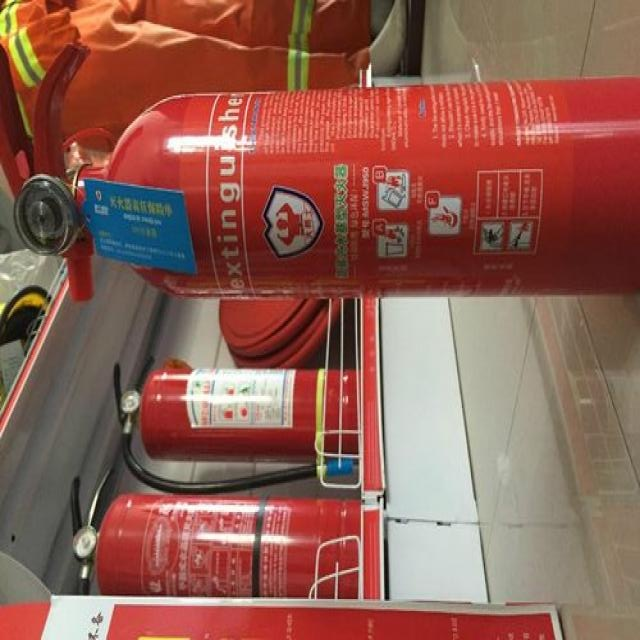fire extinguisher: (10, 37, 636, 362)
